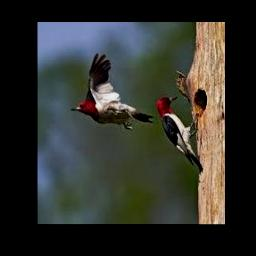Woodpecker: (70, 53, 154, 130), (156, 96, 203, 173)
